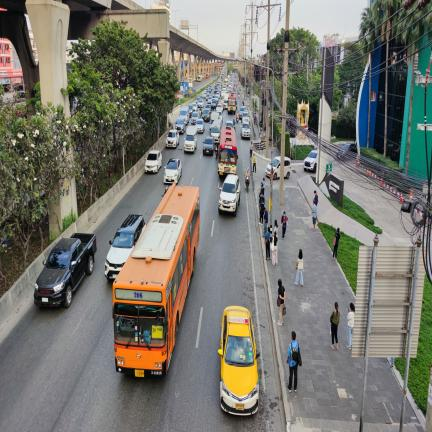bus: (113, 185, 200, 377), (218, 126, 238, 176), (227, 93, 237, 114)
car: (103, 214, 145, 285), (218, 174, 240, 216), (164, 158, 182, 183), (144, 150, 162, 173), (304, 148, 318, 173), (336, 143, 358, 158), (203, 136, 215, 155), (166, 130, 179, 147), (175, 117, 186, 134), (241, 119, 250, 139), (195, 119, 205, 133), (191, 111, 199, 125), (239, 106, 247, 120), (202, 108, 210, 121), (242, 110, 250, 122), (211, 98, 218, 109), (225, 120, 234, 128), (216, 103, 223, 113), (188, 104, 193, 117), (197, 99, 204, 108), (206, 93, 212, 102), (204, 103, 211, 110), (223, 100, 228, 109), (192, 103, 197, 112), (203, 91, 208, 99), (216, 113, 217, 114)
human: (287, 331, 300, 392), (330, 302, 340, 350), (347, 303, 355, 350), (277, 279, 285, 326), (294, 249, 303, 286), (332, 227, 340, 261), (264, 227, 271, 260), (272, 231, 278, 265), (281, 211, 288, 240), (311, 200, 317, 231), (259, 197, 265, 225), (263, 207, 268, 235), (245, 168, 250, 187), (273, 219, 278, 234), (252, 155, 256, 173), (259, 191, 265, 202), (314, 190, 318, 205), (260, 179, 265, 191), (260, 183, 264, 197), (250, 142, 253, 158), (262, 235, 264, 237), (275, 221, 275, 222)
motorbike: (246, 176, 250, 192), (214, 146, 218, 160), (245, 175, 245, 176)
pickup: (34, 233, 97, 308)
taxi: (218, 306, 260, 415)
truck: (184, 126, 198, 153), (210, 111, 221, 124), (223, 93, 229, 109)
van: (210, 118, 222, 144), (210, 119, 222, 144), (179, 106, 189, 126), (179, 106, 189, 125), (210, 111, 220, 124)
